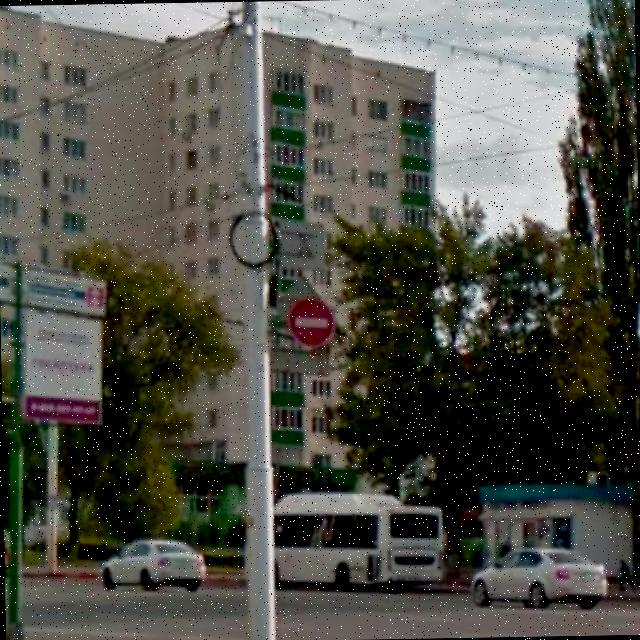Zakaz wjazdu: (286, 298, 336, 345)
